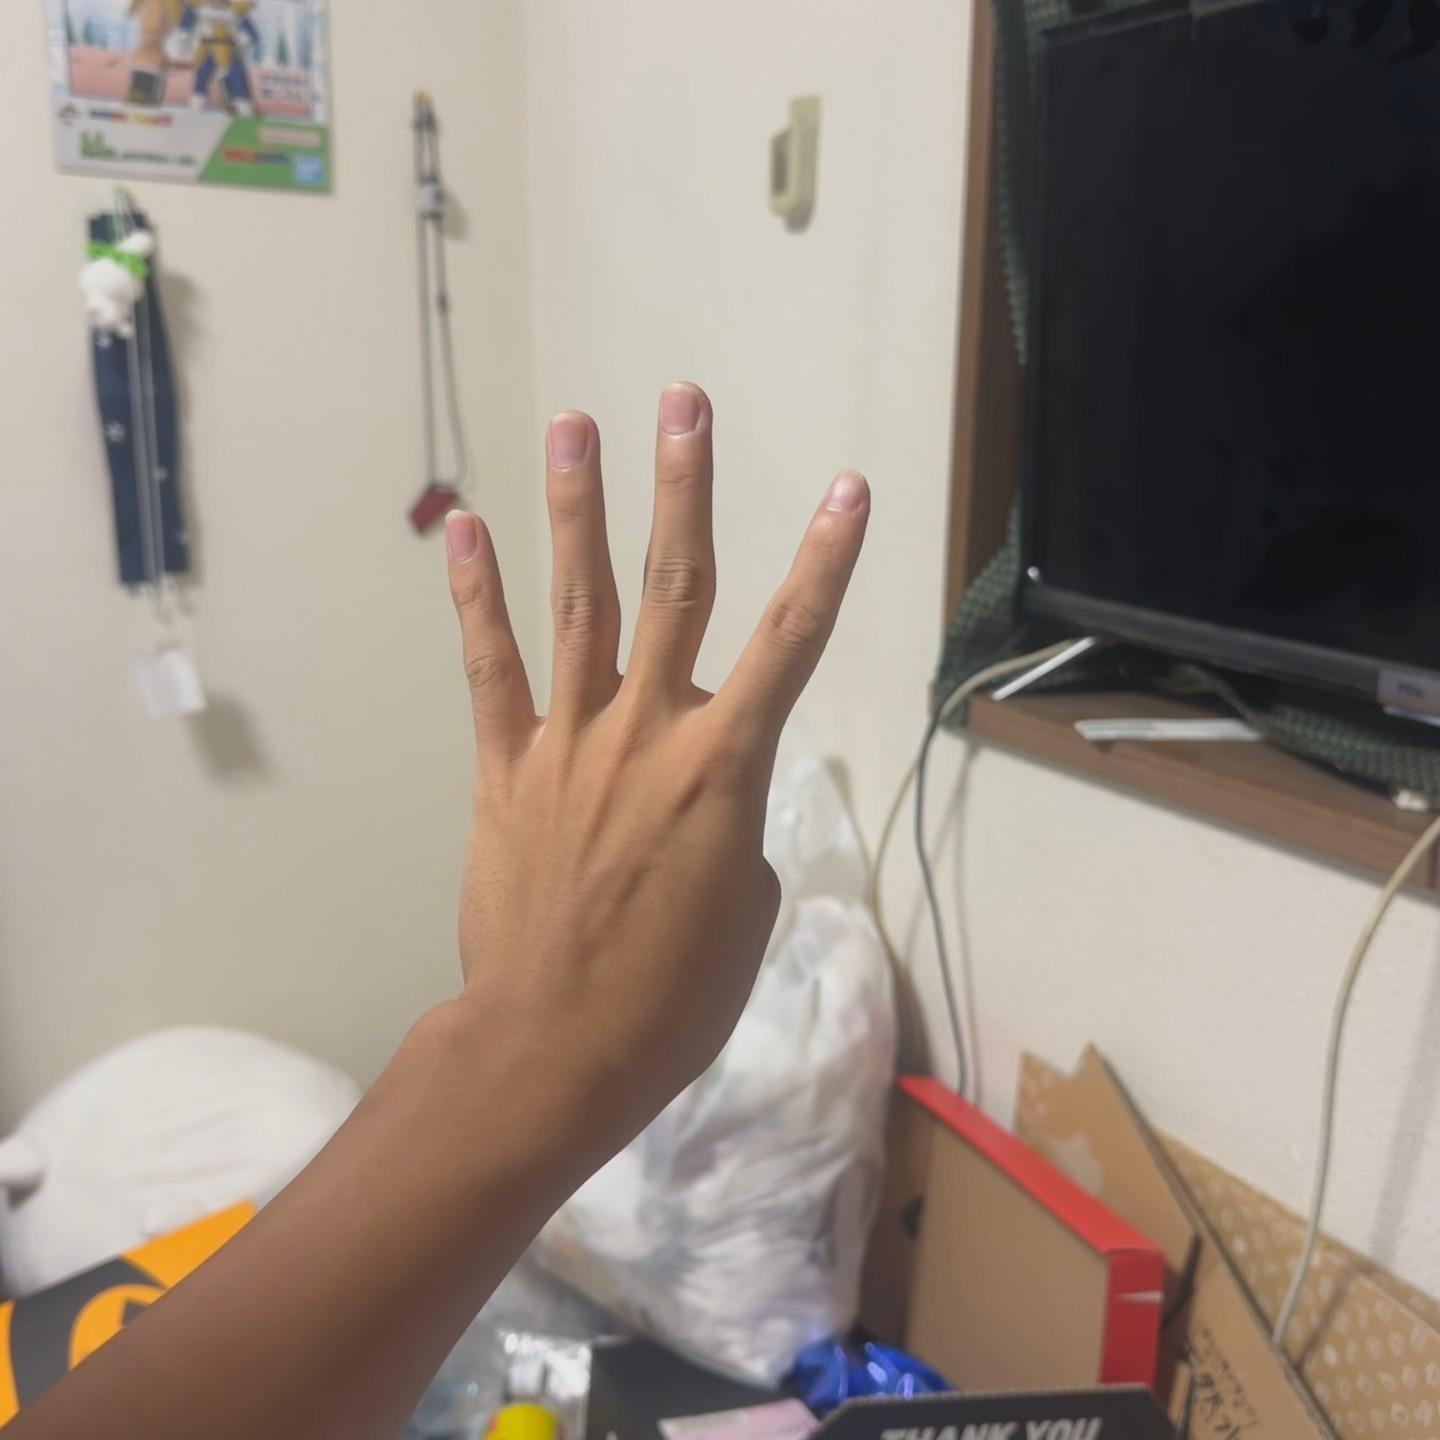without_gloves: (265, 203, 1055, 1216)
